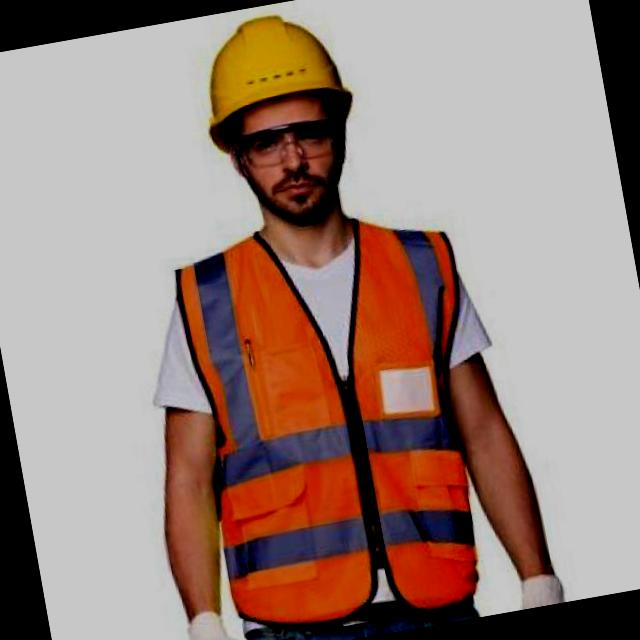vest: (165, 216, 504, 627)
